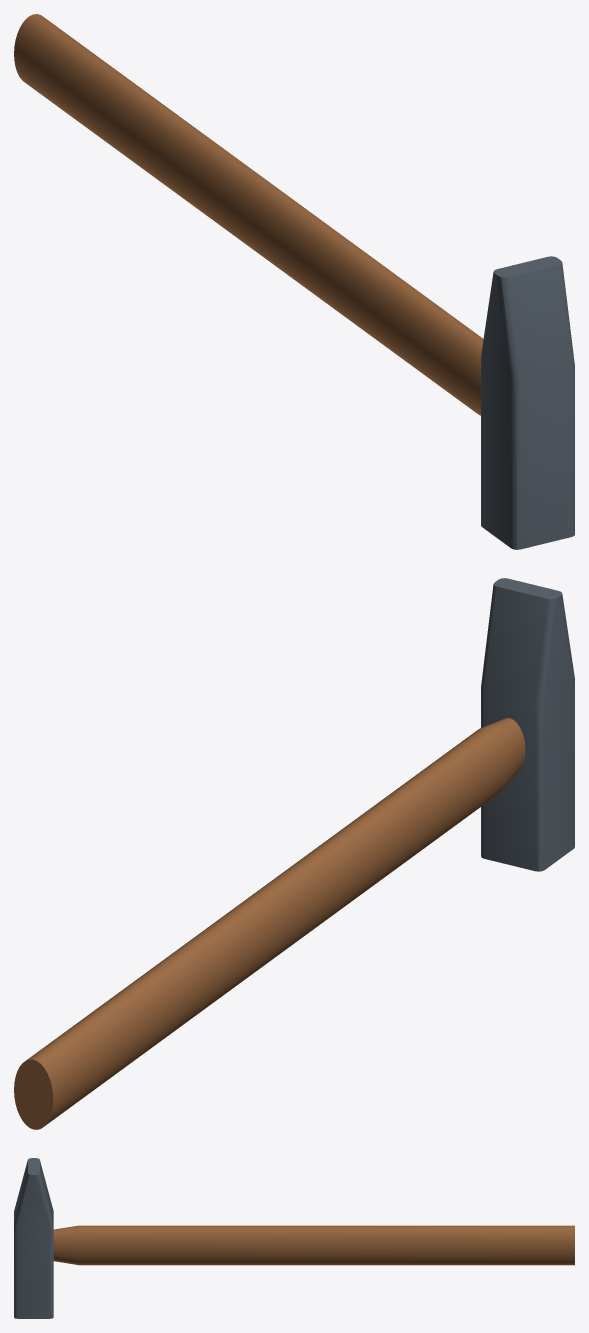
Rendered from hammer.fbx.
The picture shows the model from 3 angles, top to bottom: view 1: azimuth 30°, elevation 25°; view 2: azimuth 150°, elevation 25°; view 3: azimuth 270°, elevation 25°; orthographic projection. The views are drawn at different scales.
Parts seen in each view (by area): view 1: Cylinder, Cylinder.001; view 2: Cylinder, Cylinder.001; view 3: Cylinder, Cylinder.001.
Boxes of the visible parts, x1=… form: Cylinder: x1=14, y1=14, x2=483, y2=415; Cylinder.001: x1=481, y1=256, x2=574, y2=549; Cylinder: x1=14, y1=718, x2=525, y2=1129; Cylinder.001: x1=481, y1=578, x2=574, y2=871; Cylinder: x1=53, y1=1225, x2=574, y2=1265; Cylinder.001: x1=14, y1=1158, x2=53, y2=1318.
Bounding box in the file's own units: 32 × 128 × 452.
